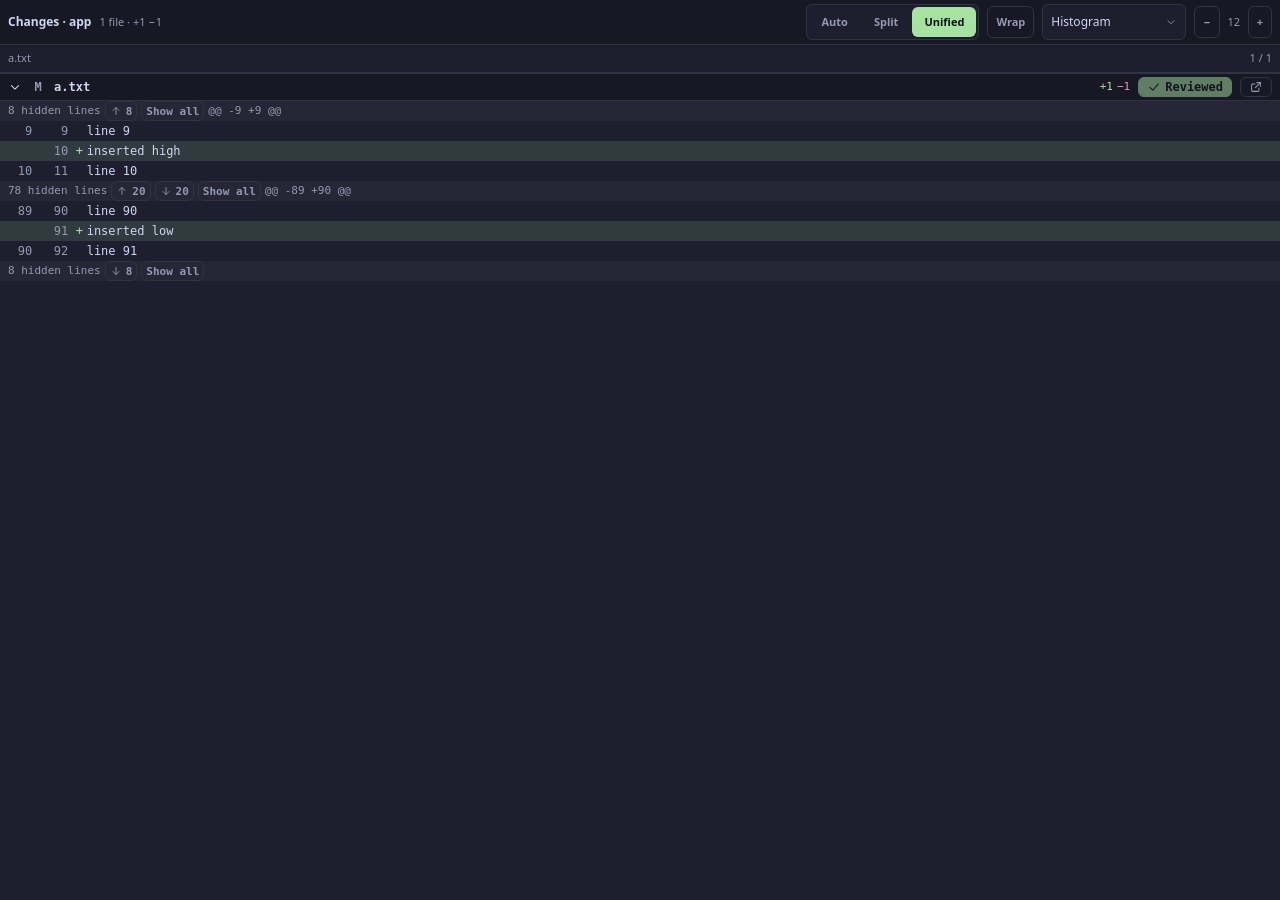
Test: on a phone the review wastes no height › keeps a 20px header row of its own for a hunk with nothing hidden above it
Expected: the list with test id "review-list" is shown, [0,73,1279,281]
// Show all of the first gap: the first hunk has nothing hidden above it any more.
Click the button "Show all" next to "@@ -9 +9 @@".
click(173, 111)  # box [141,101,204,121]
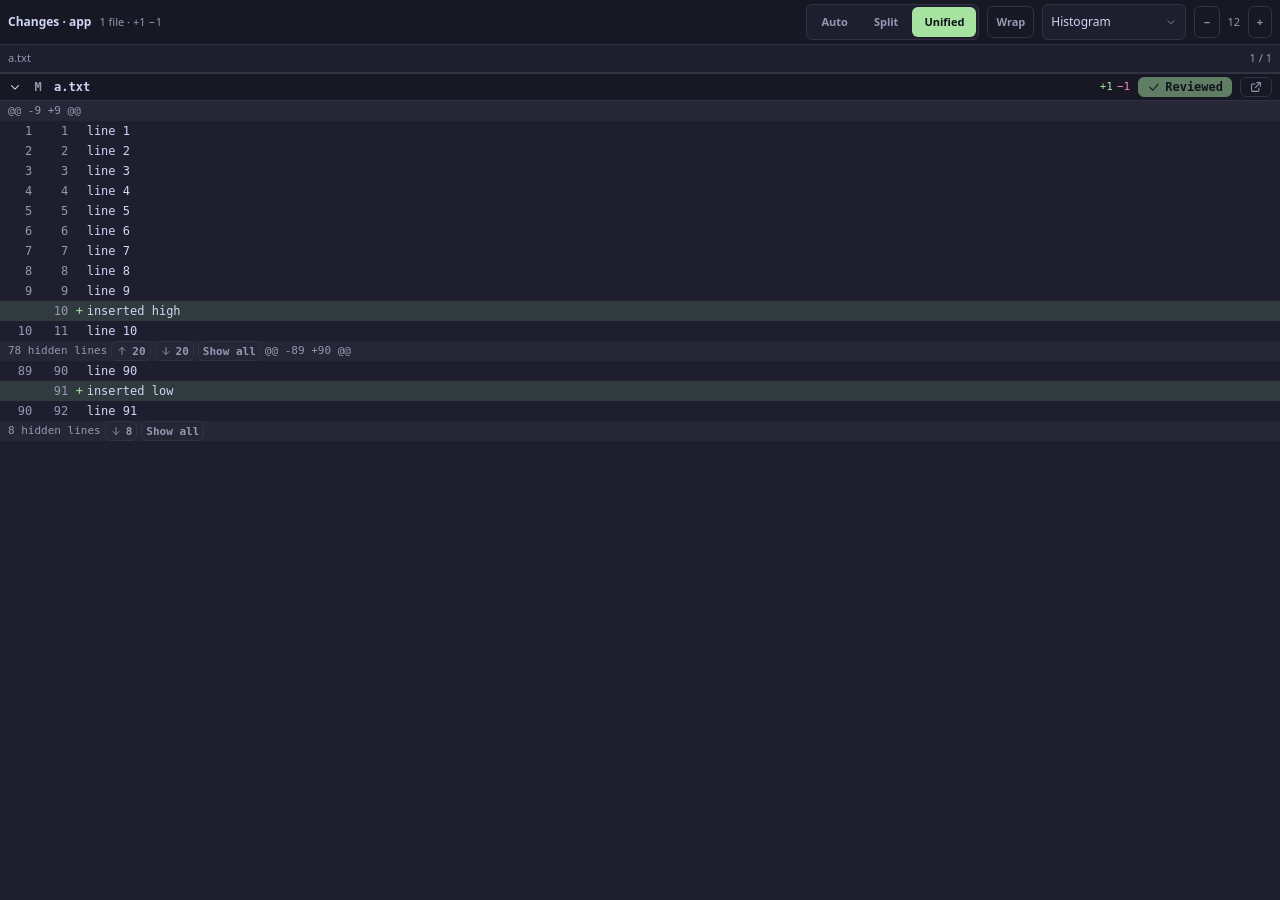
Expected: the list item with test id "review-hunk" reads "@@ -9 +9 @@", [8,104,81,117]
Now the number of list items with test id "review-hunk" is 1, box [0,101,1279,121]
